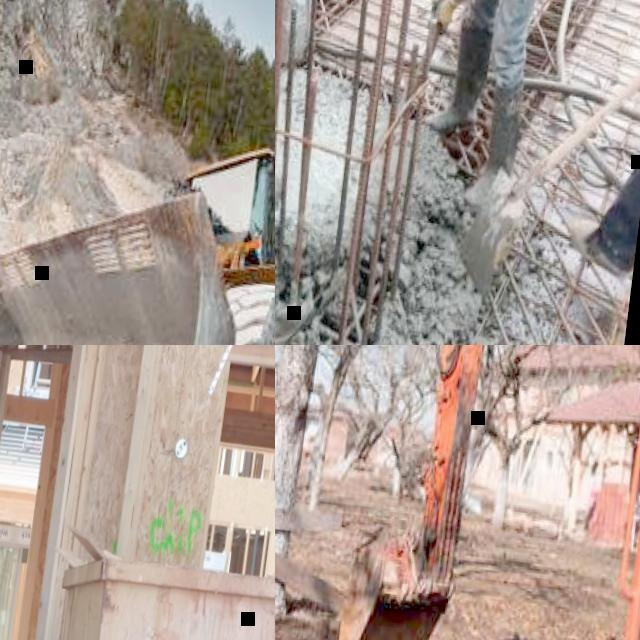Person: (359, 0, 583, 218), (562, 0, 640, 276)
machinery: (317, 345, 640, 640), (0, 111, 275, 345)
